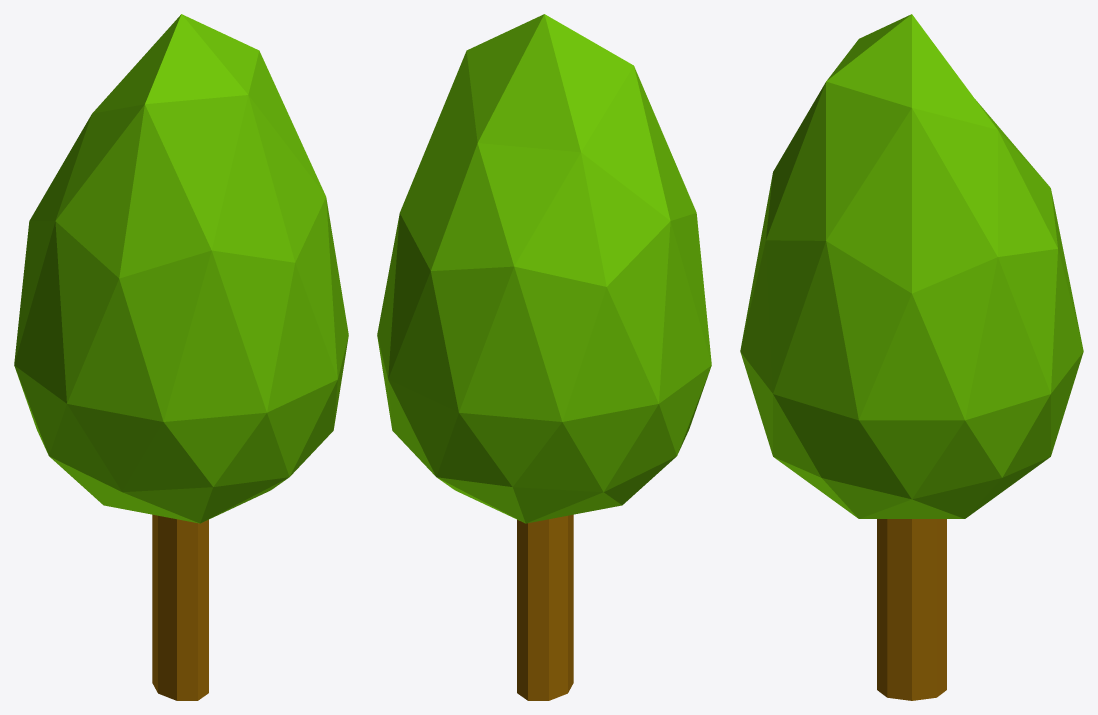
File: Arbres_Lunatic_Grand.fbx
3 views of the same model, side by side, from view 1: azimuth 30°, elevation 25°; view 2: azimuth 150°, elevation 25°; view 3: azimuth 270°, elevation 25° (orthographic).
Visible parts, largest first — view 1: Cylinder_001; view 2: Cylinder_001; view 3: Cylinder_001.
Boxes of the visible parts, left/top/right/bottom form: Cylinder_001: left=14, top=14, right=348, bottom=700; Cylinder_001: left=377, top=14, right=711, bottom=700; Cylinder_001: left=740, top=14, right=1083, bottom=700.
Size of the model in its own units: 5.89 by 13.46 by 6.2.
